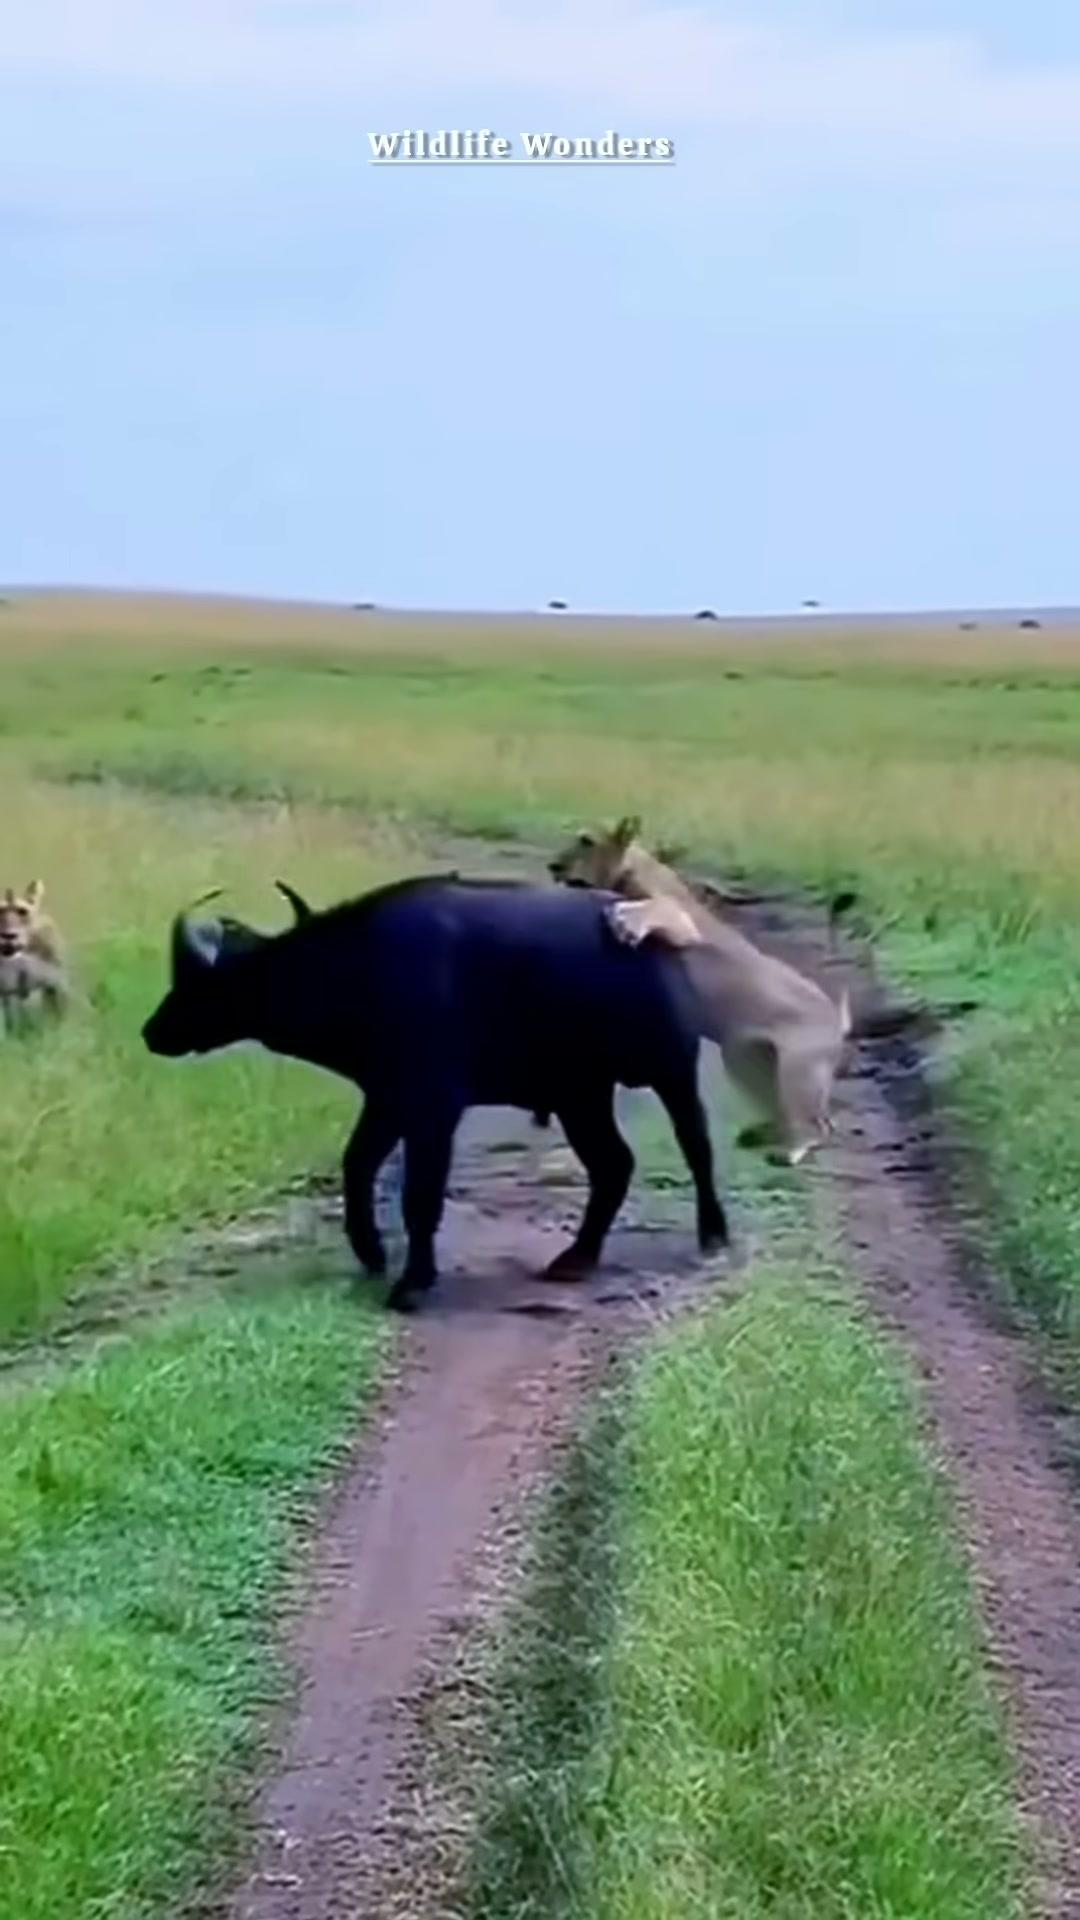Buffalo: (119, 877, 626, 1283), (1076, 646, 1080, 665)
